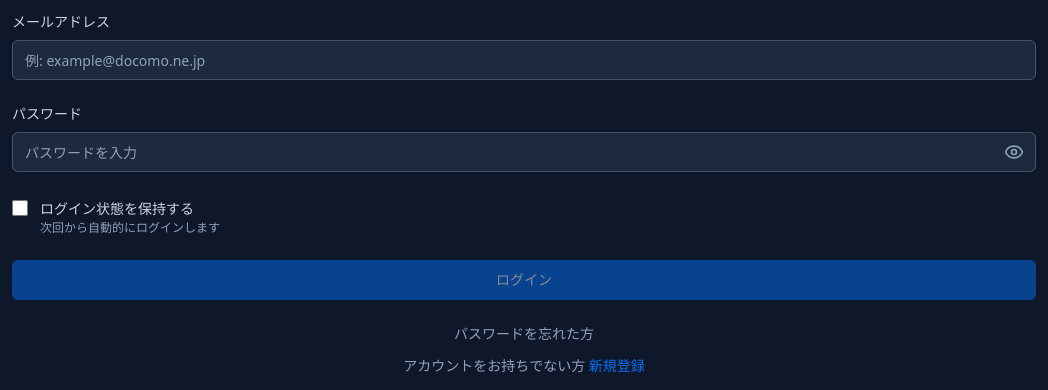
LoginForm › バリデーション › LoginForm_WithValidInputs_ShouldEnableSubmitButton
The image size is (1048, 390).
In the field labelled "メールアドレス": (524, 60) [12,40,1036,80], type "test@docomo.ne.jp"
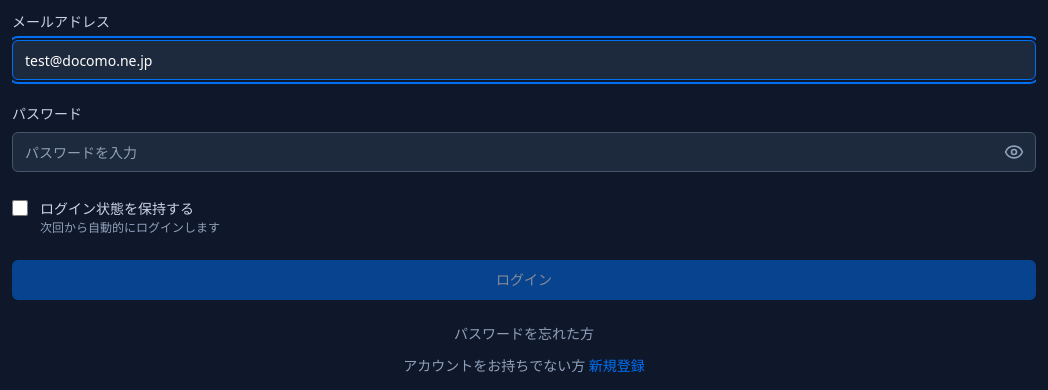
In the password field labelled "パスワード": (524, 152) [12,132,1036,172], type "password123"
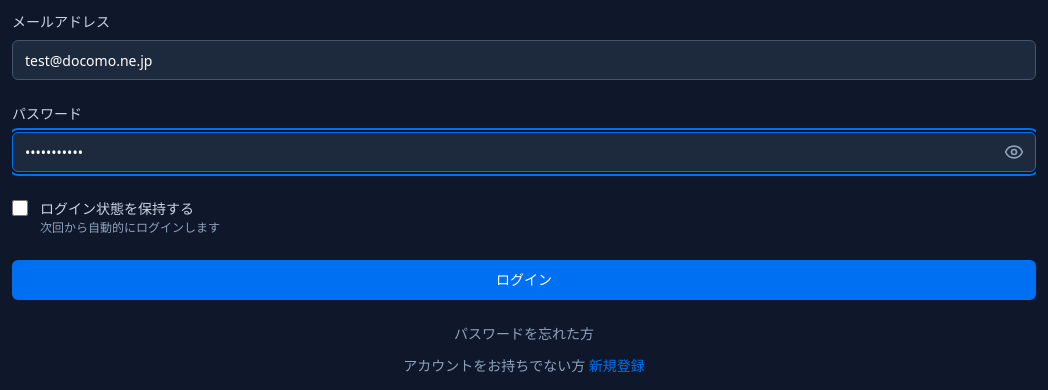
Expected: the button "ログイン" is enabled, [12,260,1036,300]
